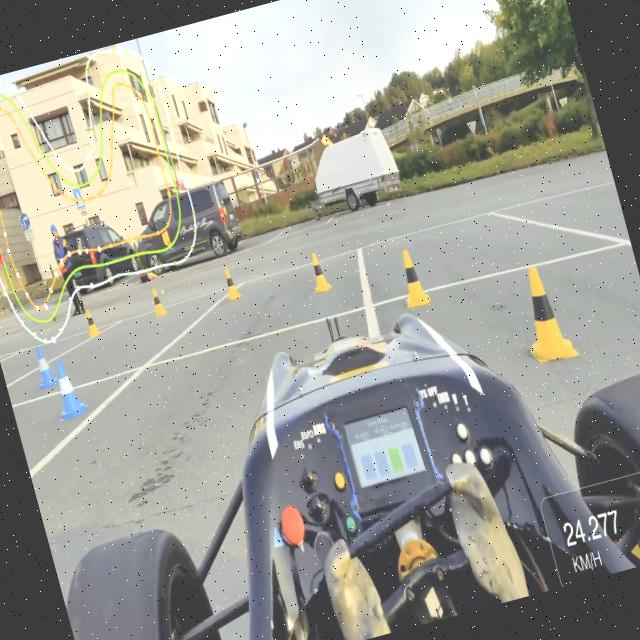blue_cone: (48, 358, 88, 424), (30, 344, 60, 394)
yellow_cone: (510, 260, 578, 368), (390, 244, 436, 314), (304, 250, 334, 299), (219, 266, 243, 304), (146, 284, 169, 318), (80, 307, 102, 341)
